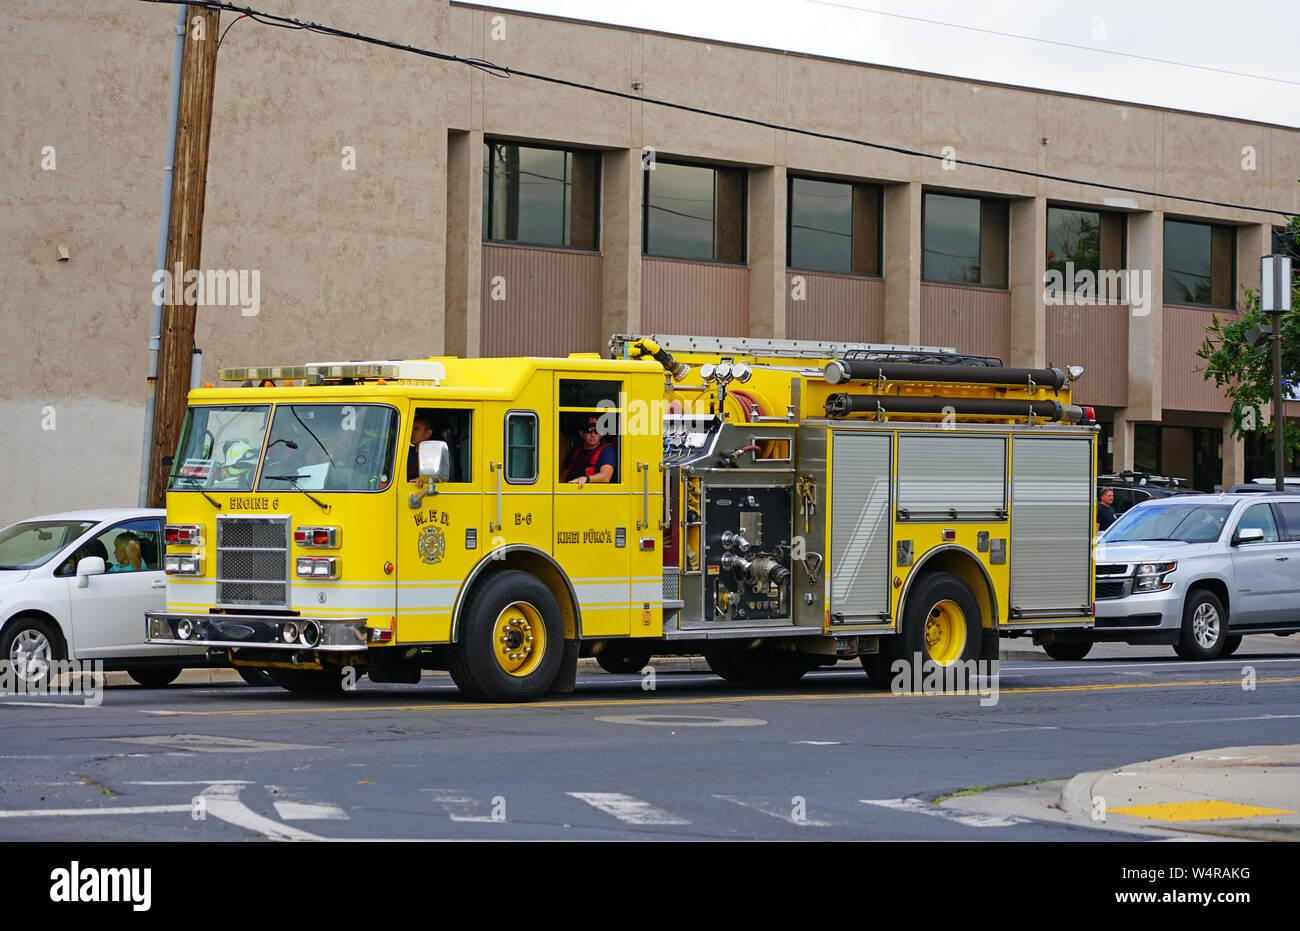firetruck_off: (146, 330, 1100, 704)
